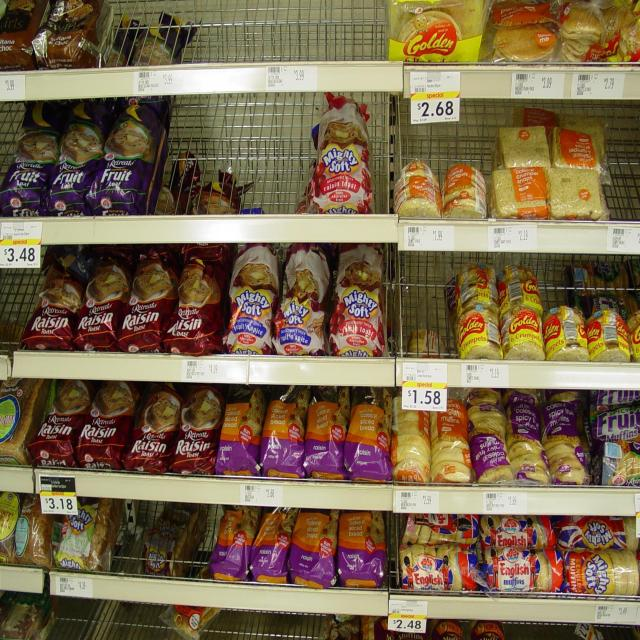void: (115, 0, 383, 61), (175, 109, 301, 212), (133, 514, 209, 572), (398, 265, 445, 355), (54, 600, 150, 640), (542, 266, 632, 306), (604, 133, 640, 219), (403, 125, 486, 160), (225, 609, 315, 640), (4, 272, 25, 342)
